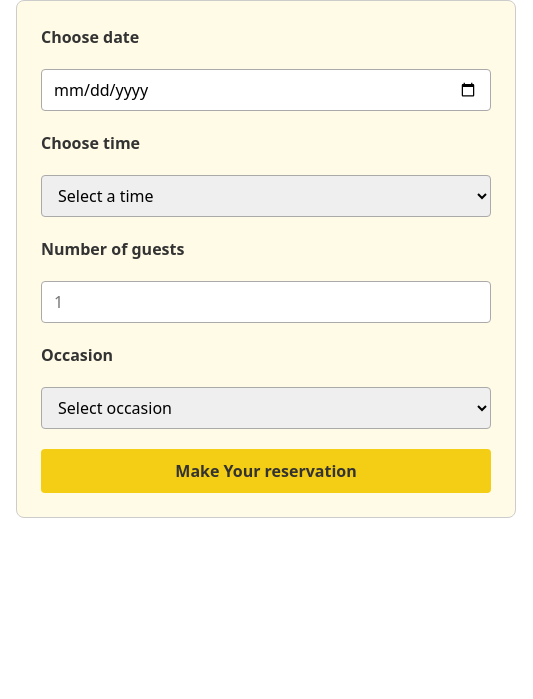
ReservationForm validation behavior › shows errors when submitting empty form
Step 1. Click the button "Make Your reservation" → coordinates (266, 471), box [41,449,491,493]
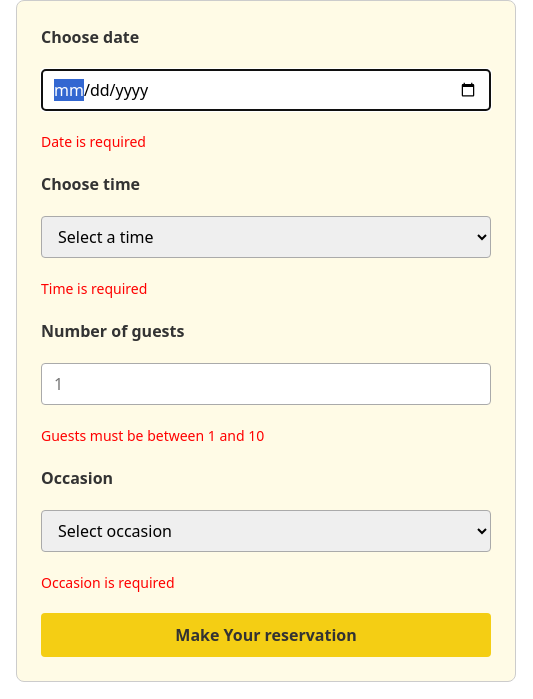
Expected: the text "Date is required" is shown, [41,132,146,151]
Expected: the text "Time is required" is shown, [41,279,147,298]
Expected: the text "Guests must be between 1 and 10" is shown, [41,426,264,445]
